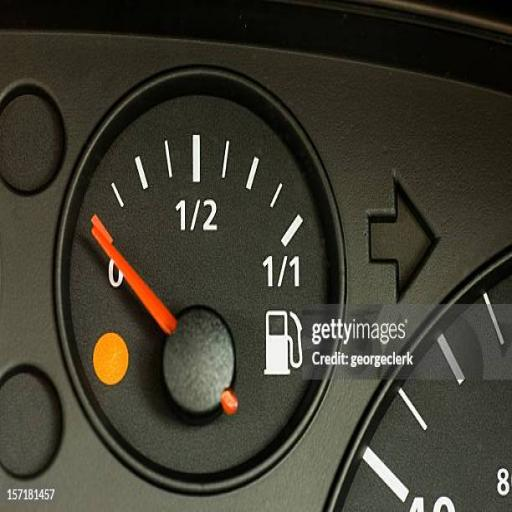fuel_icon: (260, 302, 304, 388)
full: (259, 249, 305, 293)
guage_area: (54, 60, 354, 492)
needle_center: (158, 299, 232, 418)
needle_tip: (86, 222, 109, 250)
